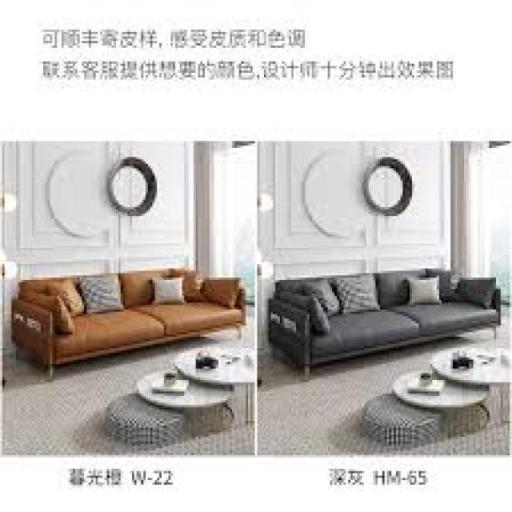sofa: (268, 243, 505, 406), (10, 248, 240, 404)
